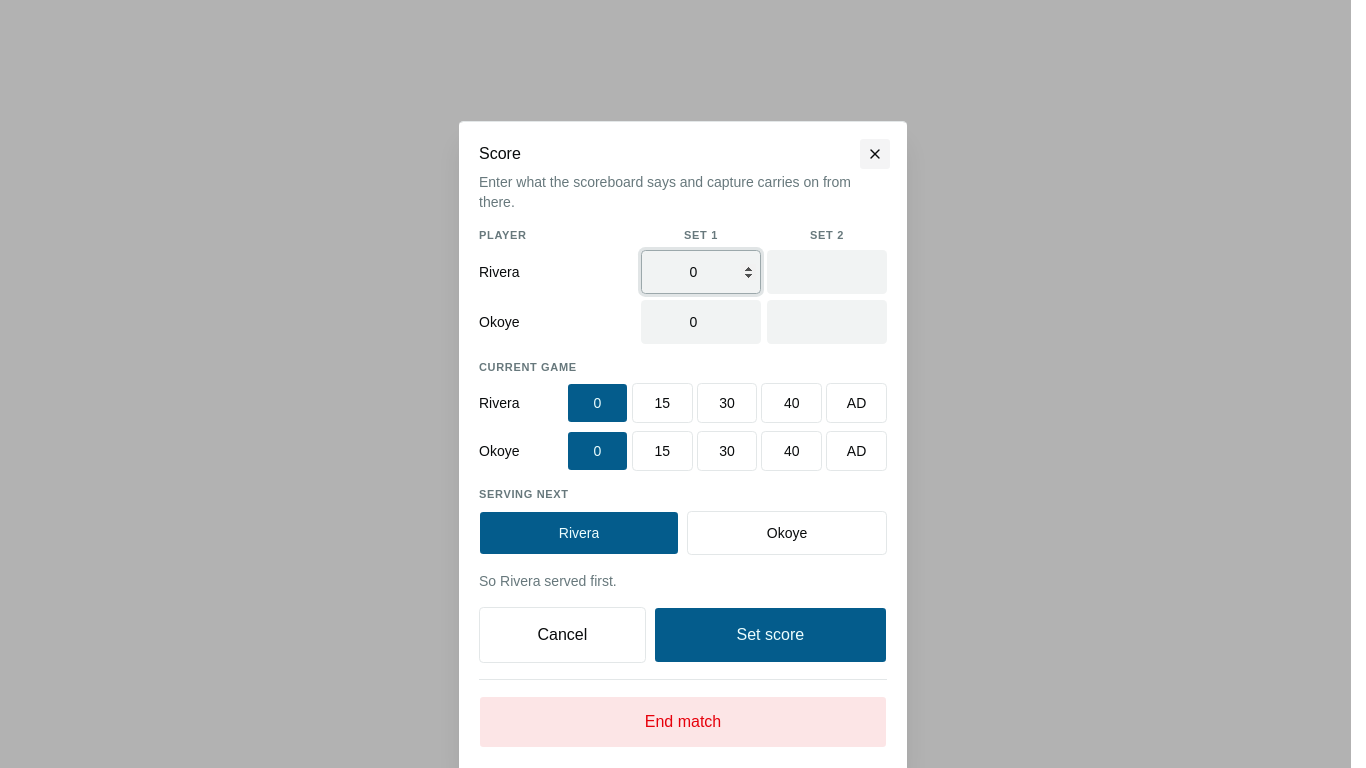
Test: survives 1.5 typed into a cell, refusing it per cell
Replace the text in the number field named "Rivera set 1 games" with "1.5" at (701,272), box [641, 250, 761, 294]
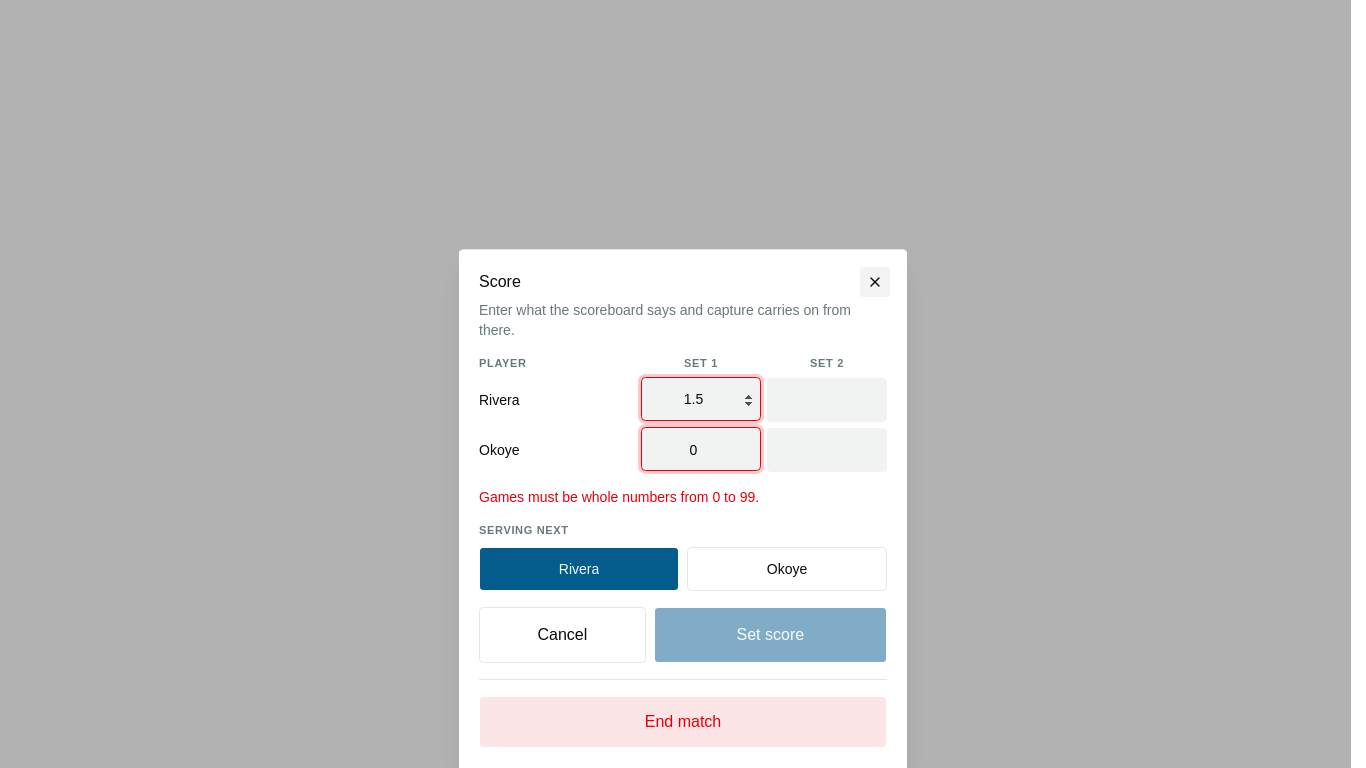
Check: the heading "Score" is shown, box [479, 273, 521, 290]
Check: the text "Games must be whole numbers from 0 to 99." is shown, box [479, 489, 759, 505]
Check: the button "Set score" is disabled, box [654, 607, 887, 663]
